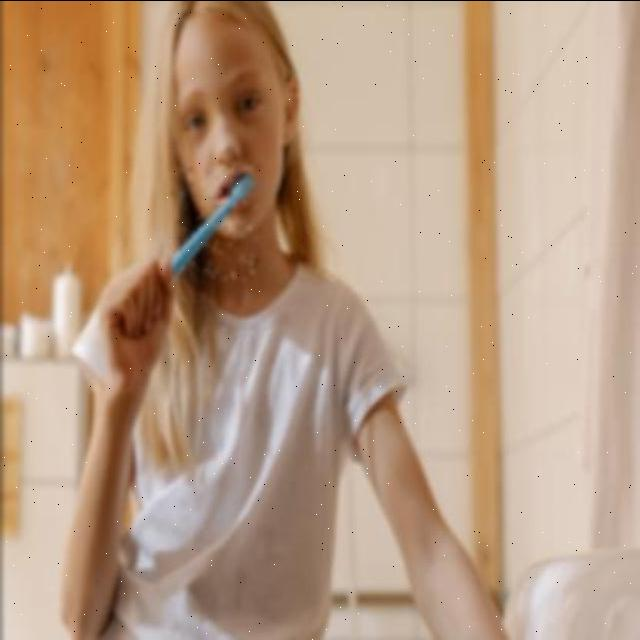toothbrush: (170, 165, 256, 285)
